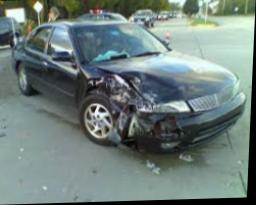Bumper: (136, 112, 182, 155)
Fender: (91, 71, 139, 141)
